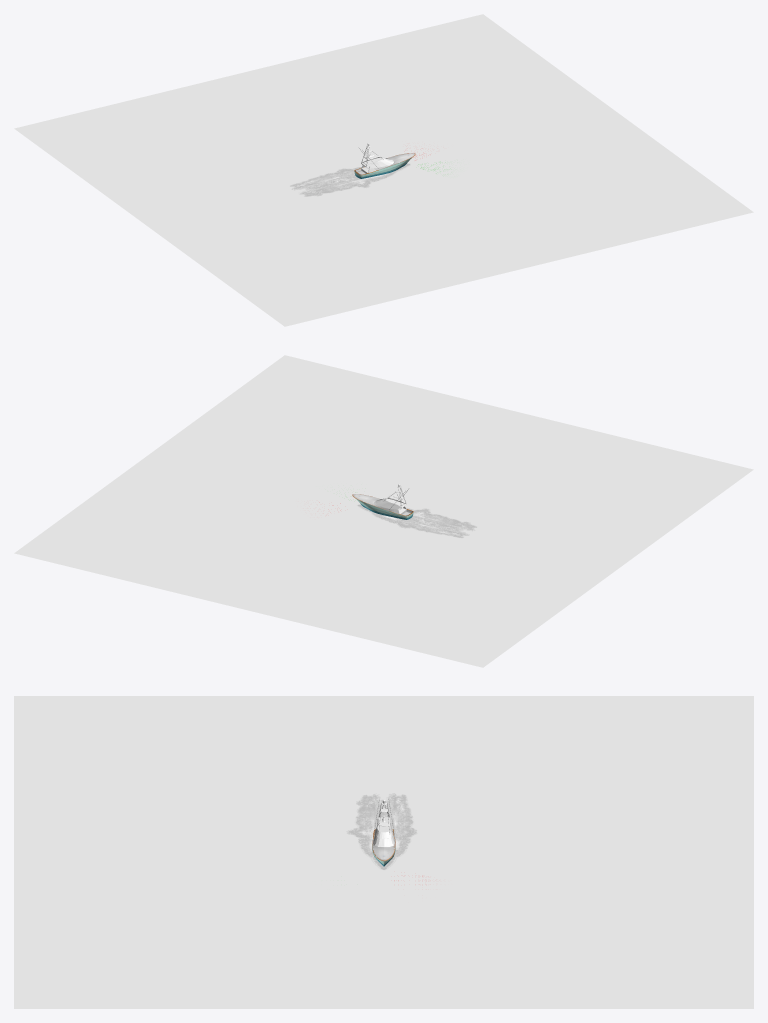
Rendered from EGO.glb.
3 views of the same model, one above another, from view 1: azimuth 30°, elevation 25°; view 2: azimuth 150°, elevation 25°; view 3: azimuth 270°, elevation 25° (orthographic). The views are drawn at different scales.
Visible parts, largest first — view 1: RiskCompass_Glow-WHITE (1), WakeTexture_02, Cube.010; view 2: RiskCompass_Glow-WHITE (1), WakeTexture_02, Cube.010; view 3: RiskCompass_Glow-WHITE (1), WakeTexture_02, Cube.010.
Boxes of the visible parts, bbox=[...] form: RiskCompass_Glow-WHITE (1): bbox=[14, 14, 753, 326]; WakeTexture_02: bbox=[290, 164, 409, 196]; Cube.010: bbox=[354, 143, 415, 178]; RiskCompass_Glow-WHITE (1): bbox=[14, 355, 753, 667]; WakeTexture_02: bbox=[358, 505, 476, 537]; Cube.010: bbox=[352, 484, 413, 519]; RiskCompass_Glow-WHITE (1): bbox=[14, 696, 753, 1008]; WakeTexture_02: bbox=[349, 794, 416, 869]; Cube.010: bbox=[372, 799, 395, 866].
Size of the model in its own units: 194 by 13.78 by 194.
10 materials, 7 textured.
